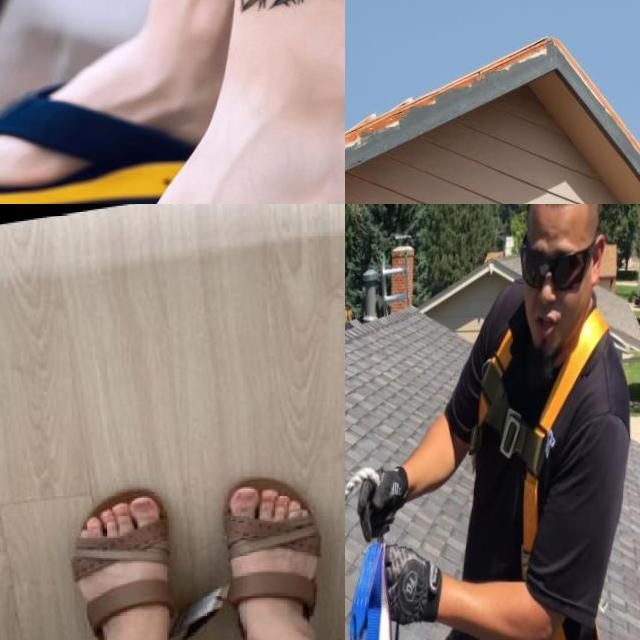Harness: (475, 313, 609, 580)
Sandals: (0, 64, 345, 204), (210, 456, 339, 640), (67, 475, 199, 640)
